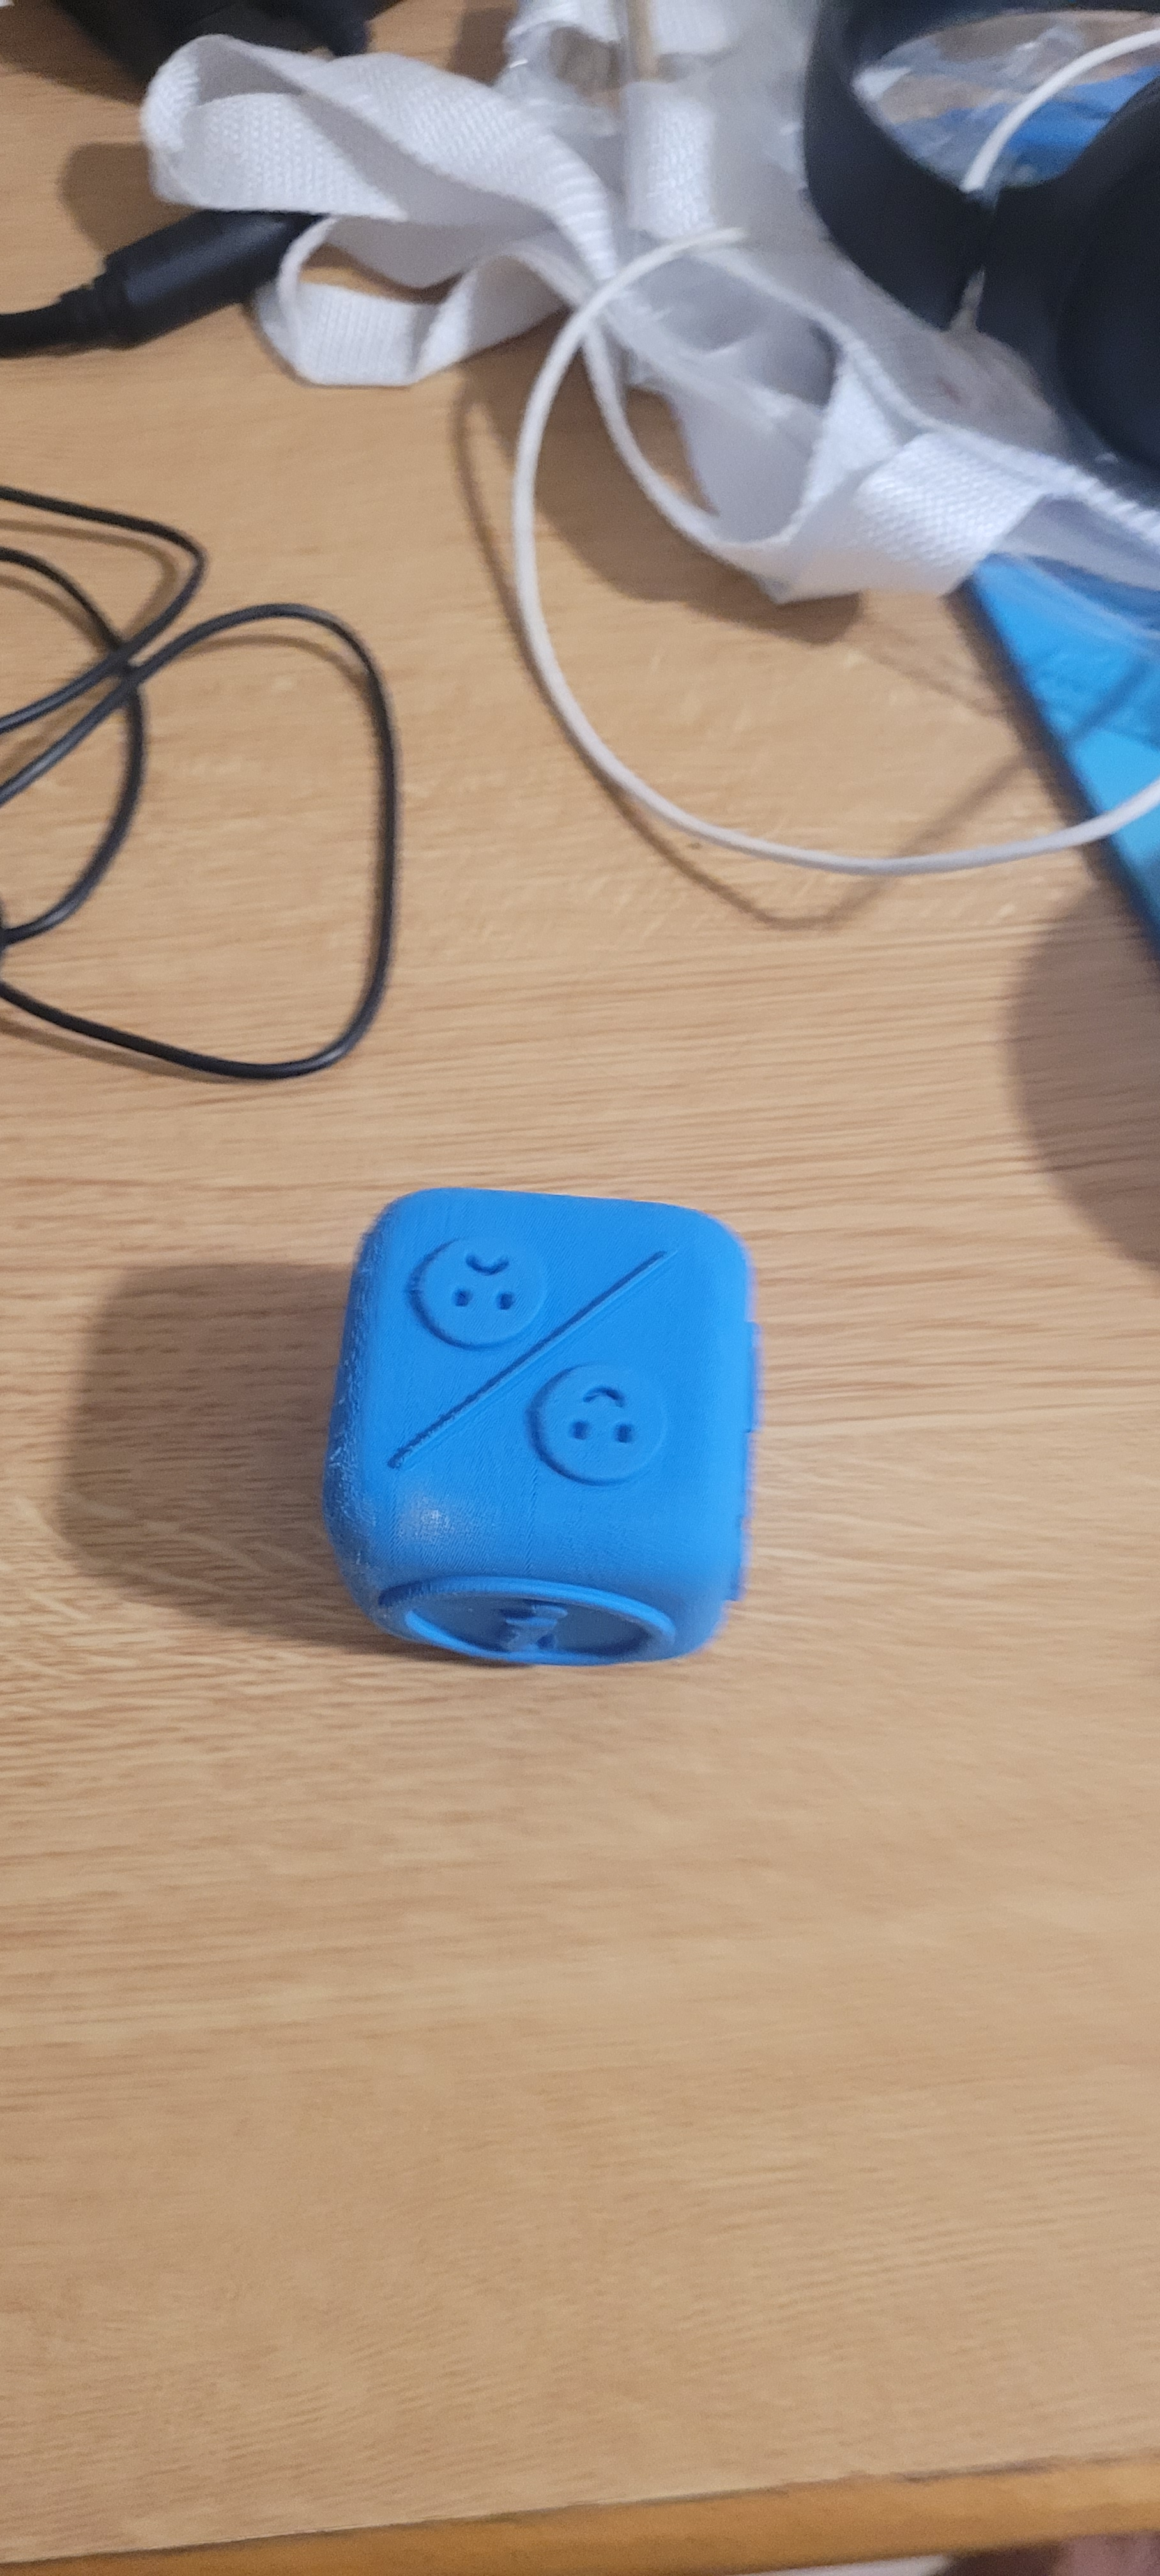Like/Dislike: (384, 1143, 734, 1580)
